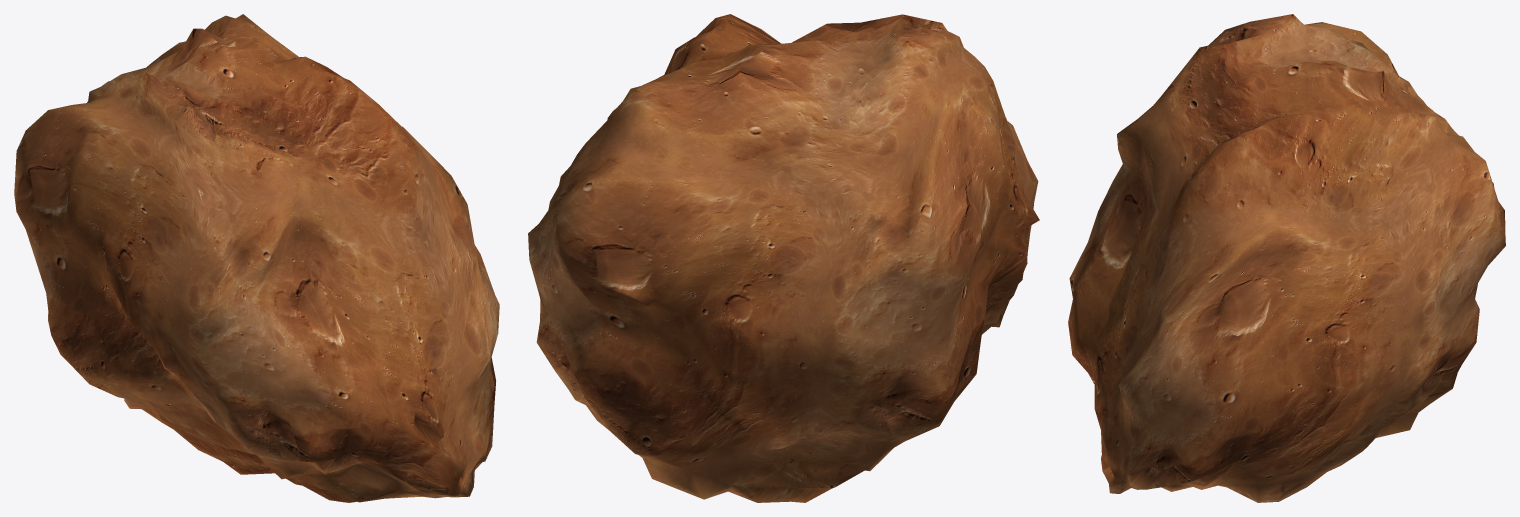
File: Asteroid_06_L0.FBX
3 renders of one model, left to right at view 1: azimuth 30°, elevation 25°; view 2: azimuth 150°, elevation 25°; view 3: azimuth 270°, elevation 25°, orthographic. The views are drawn at different scales.
Parts seen in each view (by area): view 1: Asteroid; view 2: Asteroid; view 3: Asteroid.
Boxes of the visible parts, x1,y1,x2,y2 form: Asteroid: (14,14,499,502); Asteroid: (528,14,1039,502); Asteroid: (1068,14,1505,502).
Size of the model in its own units: 2.18 by 2.24 by 2.25.
